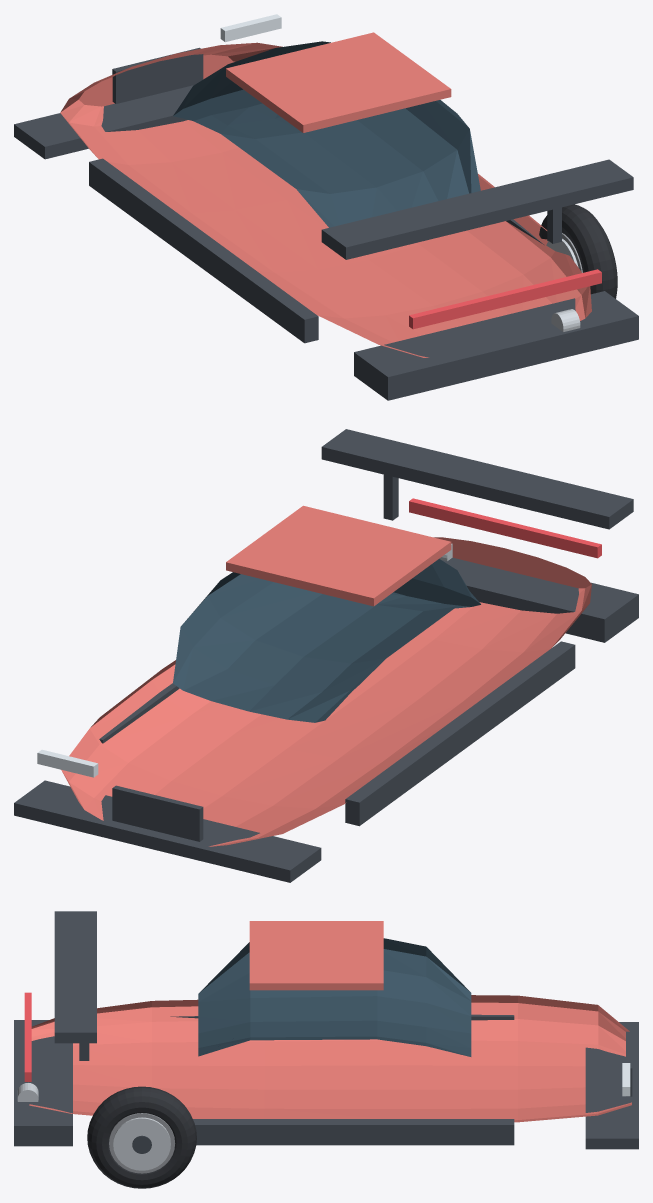
The model's file is hyper_x.glb.
3 renders of one model, top to bottom at view 1: azimuth 30°, elevation 25°; view 2: azimuth 150°, elevation 25°; view 3: azimuth 270°, elevation 25°, orthographic. The views are drawn at different scales.
Visible parts, largest first — view 1: Sculpted_unibody, Panoramic_glass_canopy, Rear_diffuser, Painted_roof_panel, Adjustable_aero_wing, Left_side_skirt, Carbon_front_splitter, Front_mesh_grille, Full_width_rear_LED, Performance_tyre, Front_LED_headlight; view 2: Sculpted_unibody, Panoramic_glass_canopy, Painted_roof_panel, Adjustable_aero_wing, Carbon_front_splitter, Left_side_skirt, Rear_diffuser, Front_mesh_grille, Full_width_rear_LED, Front_LED_headlight, Right_side_skirt, Wing_support; view 3: Sculpted_unibody, Panoramic_glass_canopy, Painted_roof_panel, Right_side_skirt, Rear_diffuser, Performance_tyre, Adjustable_aero_wing, Carbon_front_splitter, Forged_alloy_hub, Ventilated_brake_disc, Full_width_rear_LED.
Part boxes in pixels (x1,y1,x2,y2): Sculpted_unibody: (60, 42, 591, 357); Panoramic_glass_canopy: (173, 41, 480, 227); Rear_diffuser: (354, 291, 638, 400); Painted_roof_panel: (226, 32, 451, 132); Adjustable_aero_wing: (321, 159, 633, 259); Left_side_skirt: (89, 158, 318, 343); Carbon_front_splitter: (14, 85, 193, 159); Front_mesh_grille: (112, 47, 203, 103); Full_width_rear_LED: (409, 269, 601, 329); Performance_tyre: (539, 204, 617, 298); Front_LED_headlight: (220, 14, 281, 42); Sculpted_unibody: (61, 537, 591, 846); Panoramic_glass_canopy: (173, 559, 480, 722); Painted_roof_panel: (226, 505, 451, 606); Adjustable_aero_wing: (321, 429, 633, 529); Carbon_front_splitter: (14, 780, 321, 882); Left_side_skirt: (345, 641, 575, 826); Rear_diffuser: (441, 557, 638, 642); Front_mesh_grille: (112, 785, 203, 841); Full_width_rear_LED: (409, 498, 601, 558); Front_LED_headlight: (37, 749, 98, 777); Right_side_skirt: (99, 683, 179, 743); Wing_support: (383, 474, 398, 520); Sculpted_unibody: (29, 995, 631, 1122); Panoramic_glass_canopy: (198, 938, 471, 1056); Painted_roof_panel: (249, 921, 383, 990); Right_side_skirt: (193, 1119, 514, 1145); Rear_diffuser: (14, 1020, 72, 1146); Performance_tyre: (87, 1086, 196, 1188); Adjustable_aero_wing: (54, 911, 96, 1043); Carbon_front_splitter: (585, 1022, 638, 1149); Forged_alloy_hub: (113, 1117, 170, 1170); Ventilated_brake_disc: (109, 1113, 175, 1173); Full_width_rear_LED: (24, 992, 31, 1081).
Bounding box in the file's own units: 2.12 × 1.39 × 4.44.
